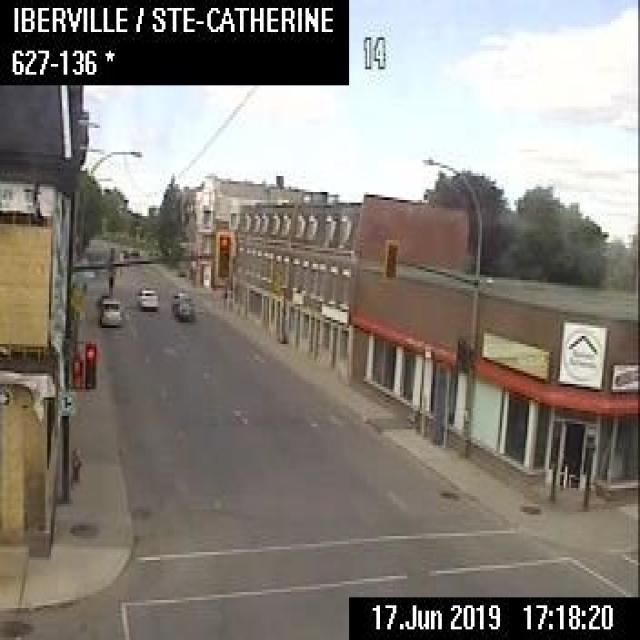vehicle: (99, 295, 120, 325), (171, 288, 191, 314), (135, 285, 158, 307)
